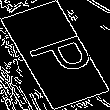P_NE: (15, 28, 95, 82)
